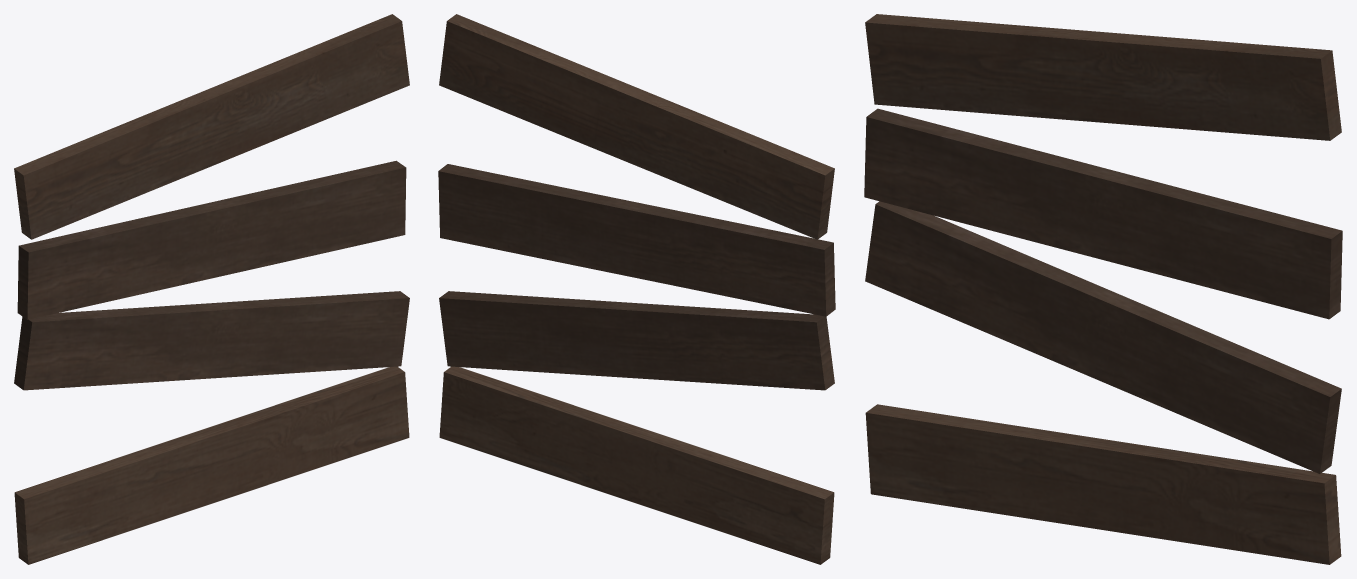
Rendered from woodenDoor.glb.
3 views of the same model, side by side, from view 1: azimuth 30°, elevation 25°; view 2: azimuth 150°, elevation 25°; view 3: azimuth 330°, elevation 25° (orthographic). The views are drawn at different scales.
Parts seen in each view (by area): view 1: barricade; view 2: barricade; view 3: barricade.
Part boxes in pixels (left/top/right/bottom): barricade: left=14, top=14, right=409, bottom=564; barricade: left=438, top=14, right=835, bottom=564; barricade: left=864, top=14, right=1342, bottom=564.
Size of what is drawn, in the model's own units: 1.97 by 2.2 by 0.1255.
Materials: 1 (1 with a texture image).
